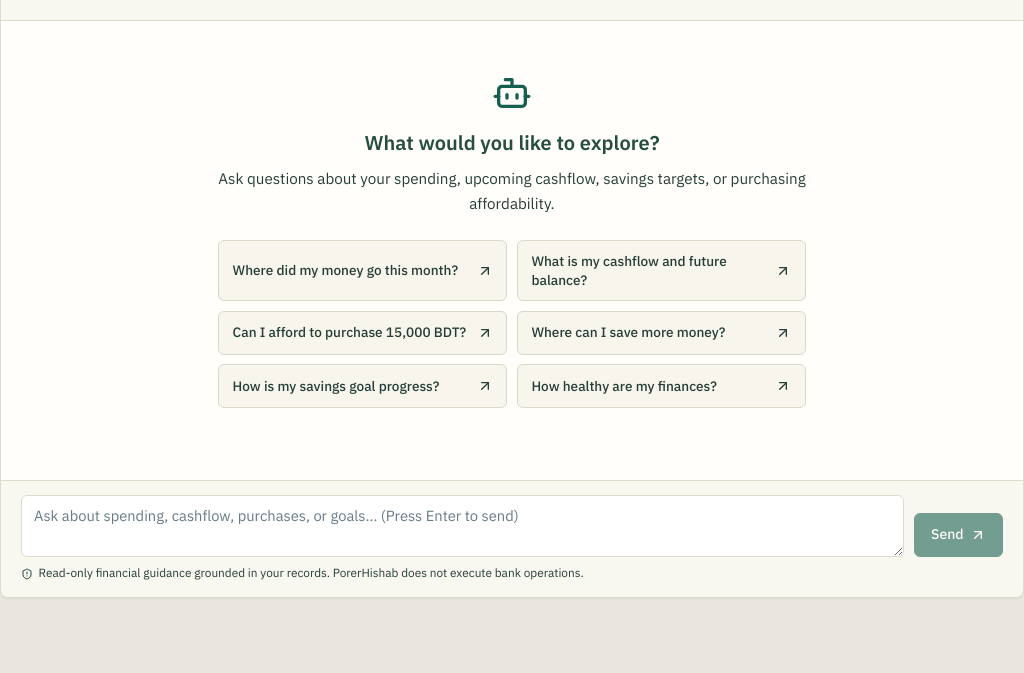
Scenario: FinancialCoach frontend component › recovers a persisted answer after a lost response without submitting another turn
Type "Lost question" into the text box named "Ask your financial coach" at (463, 526), box [21,495,904,557]
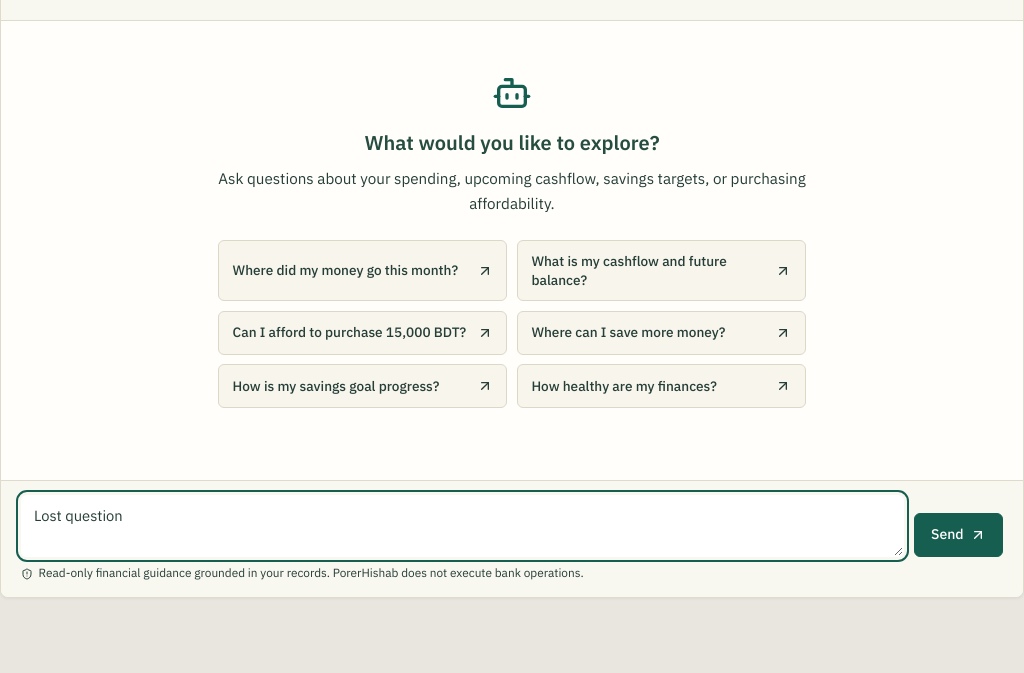
Click the button with aria-label "Send question" at (958, 535), box [914,513,1003,557]
(page scrolled)
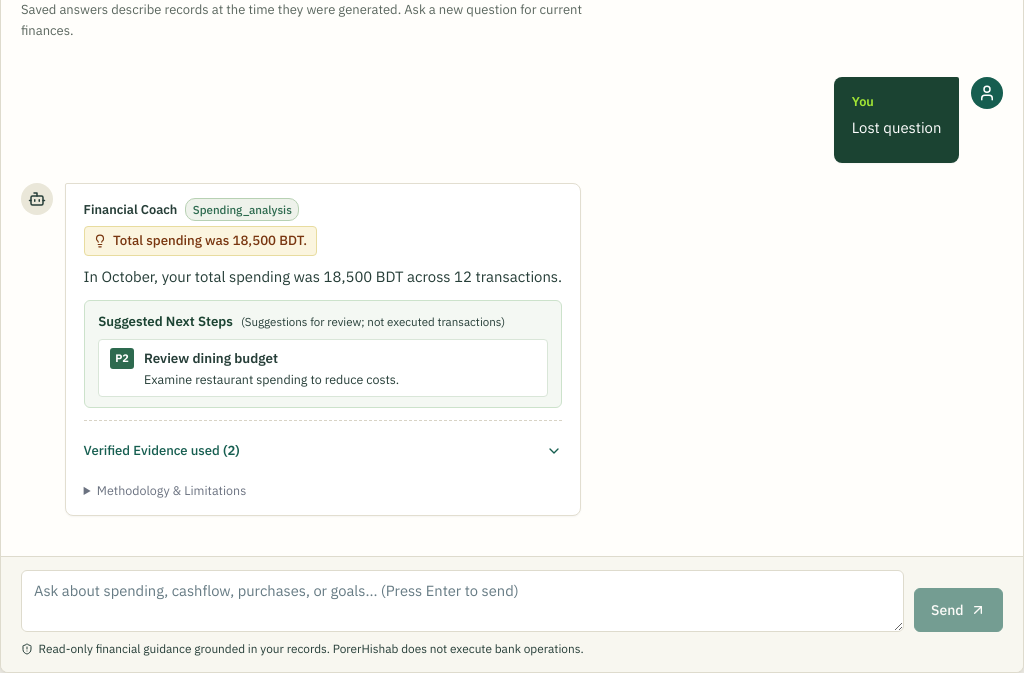
Now the text "Lost question" is shown once, box [852,116,941,139]
Now the text "In October, your total spending was 18,500 BDT across 12 transactions." is shown once, box [84,266,562,288]
